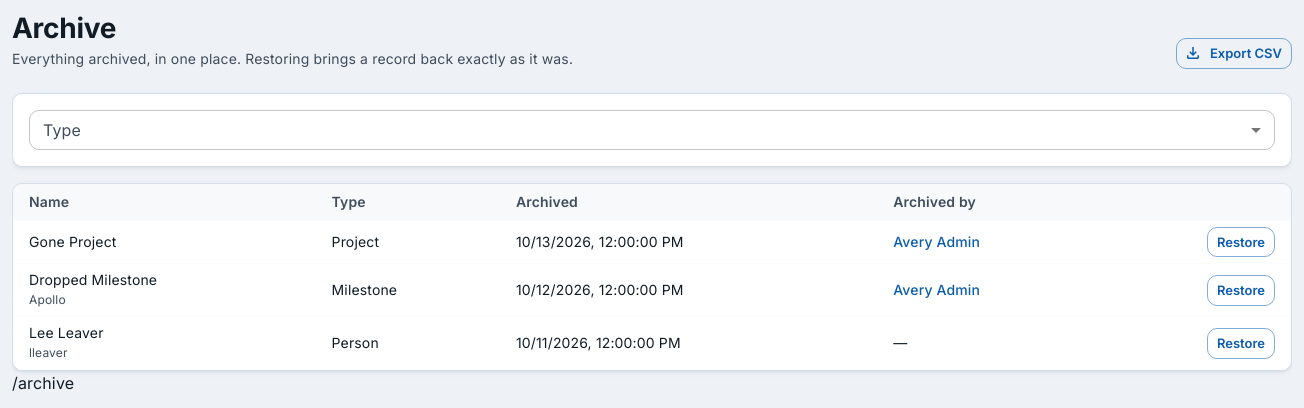
Test: ArchivePage › lists every archived record with its type and who archived it, filterable by type
The image size is (1304, 408).
expect the number of rows is 4: met, box [13,184,1291,220]; [13,220,1291,264]; [13,264,1291,317]; [13,317,1291,370]
expect the row "Gone Project" is shown: met, box [332,233,379,250]
What coordinates should you click on to do the following:
click the dropdown named "type"
I would click on:
 (652, 130)
Its box is [29,110,1275,150].
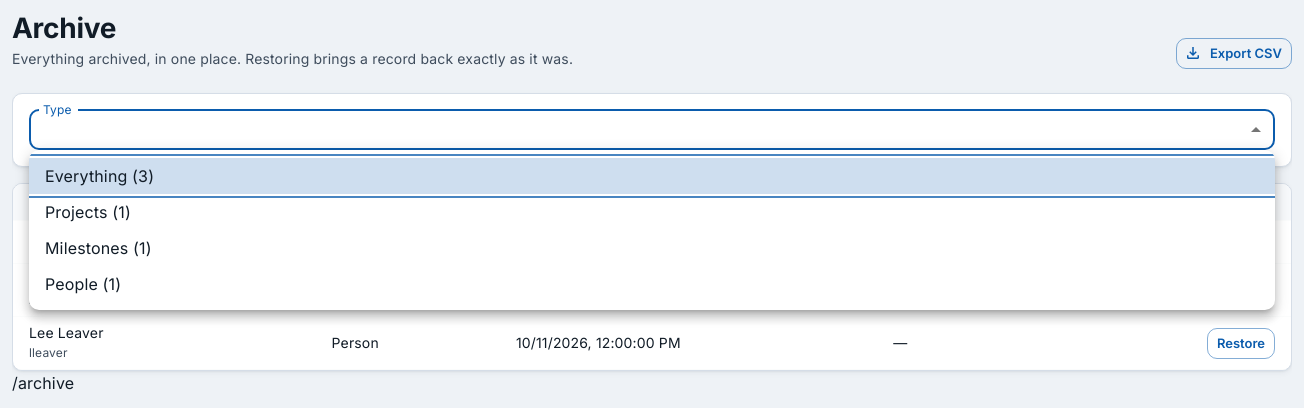
What coordinates should you click on to do the following:
click the option "People (1)"
I would click on:
 (83, 284)
Its box is [45,274,121,294].
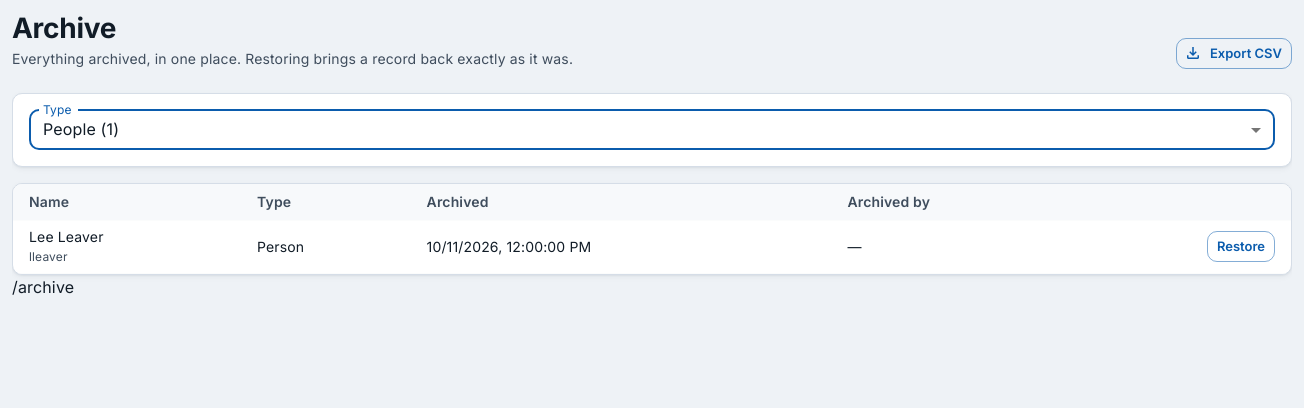
expect the row "Lee Leaver lleaver Person 10/11/2026, 12:00:00 PM — Restore" is shown: met, box [13,220,1291,273]
expect the number of rows is 2: met, box [13,184,1291,220]; [13,220,1291,273]
